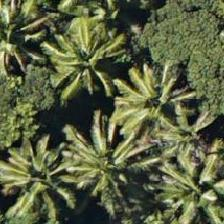coconut_tree: (47, 15, 137, 105), (98, 56, 188, 146), (73, 113, 163, 203), (0, 132, 79, 222), (160, 110, 223, 200), (0, 0, 52, 54)
